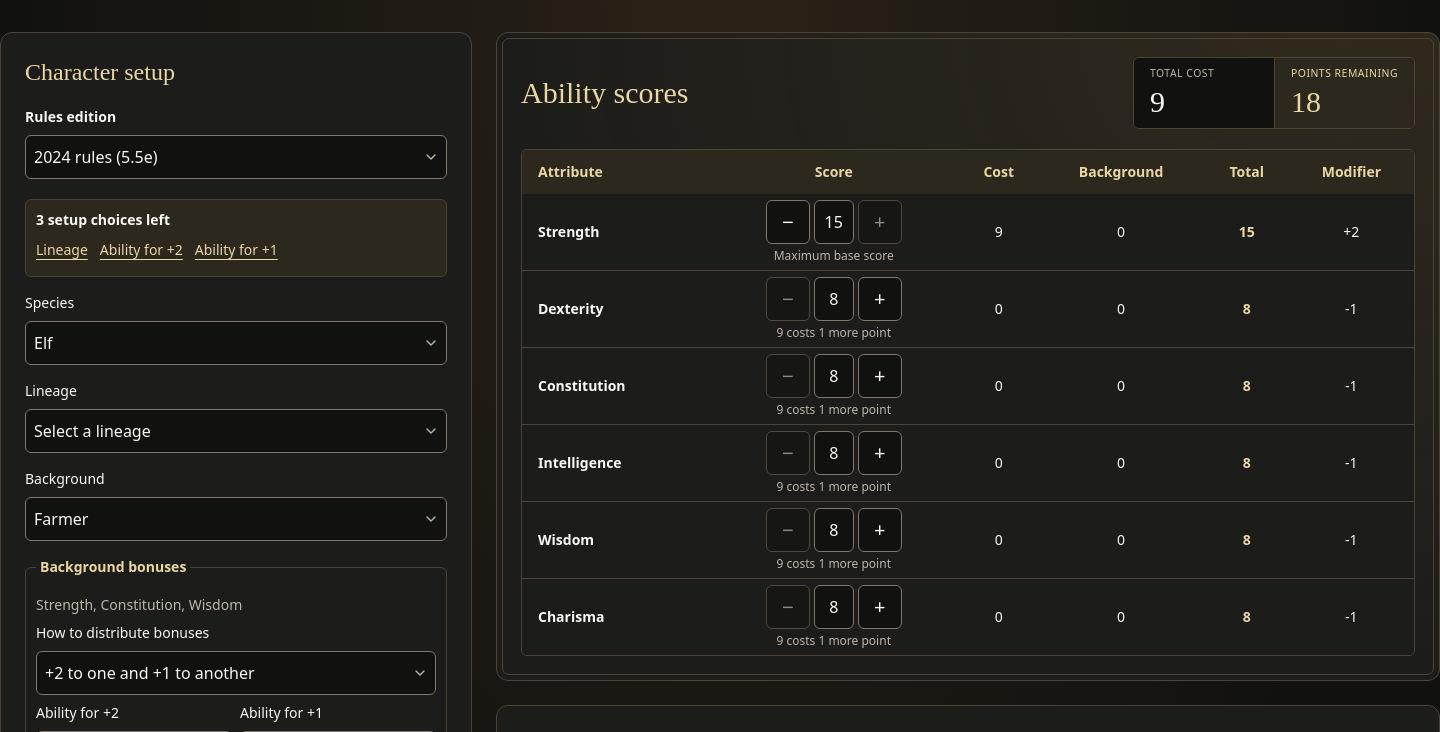
it: CharacterForm and BuildSync › syncs only the active edition's choices and retains shared scores on a round trip
Select "2014 rules (5e)" in the dropdown labelled "Rules edition". click: (236, 157)
box: [25, 135, 447, 179]
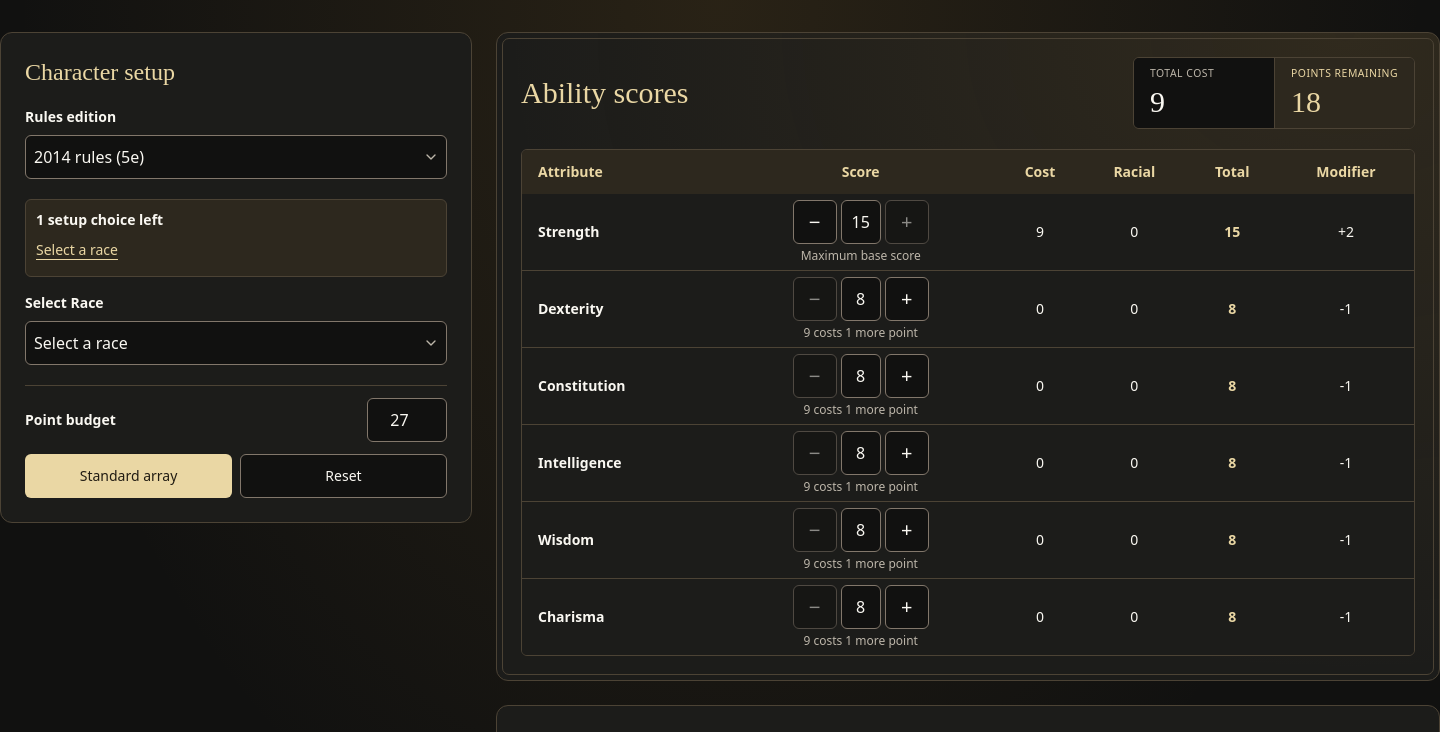
Select "Dwarf" in the dropdown labelled "Select Race". click: (236, 343)
box: [25, 321, 447, 365]
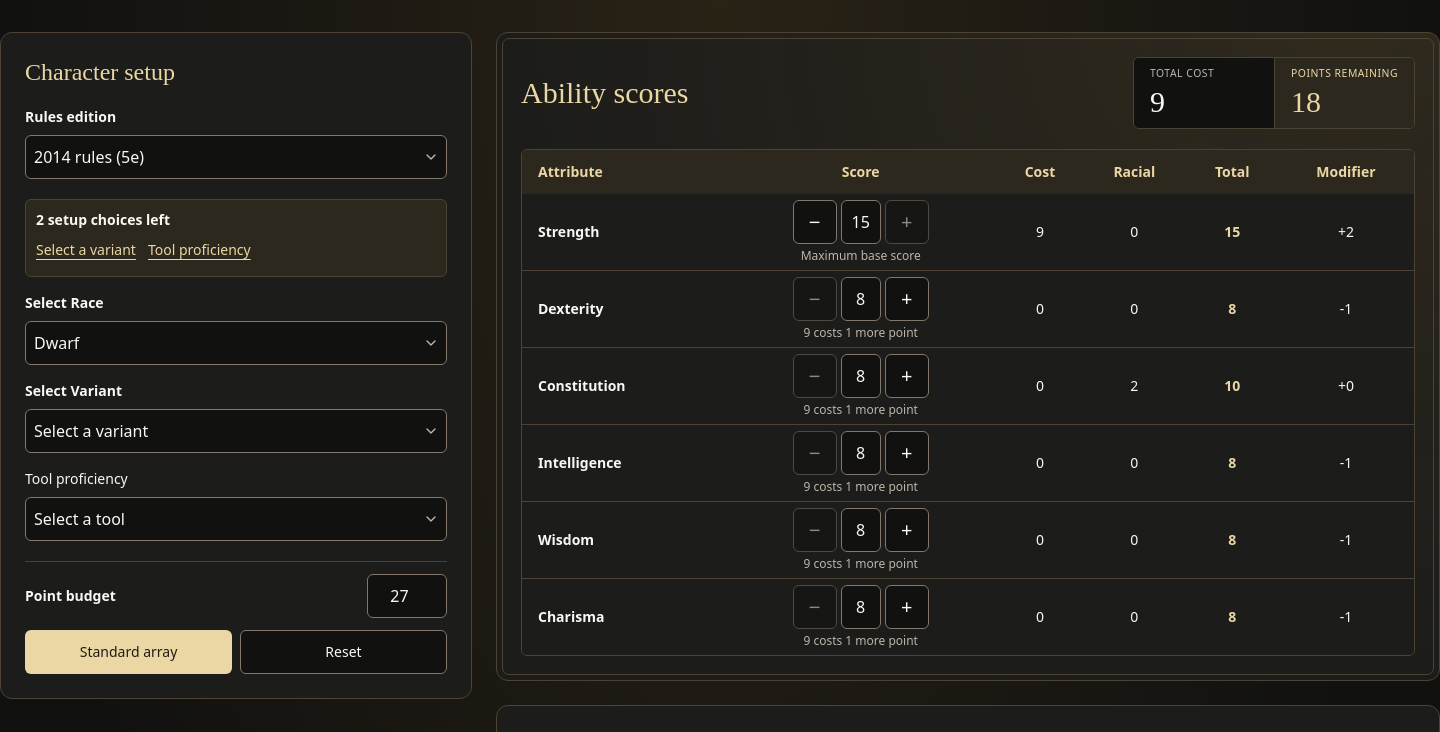
Select "2024 rules (5.5e)" in the dropdown labelled "Rules edition". click: (236, 157)
box: [25, 135, 447, 179]
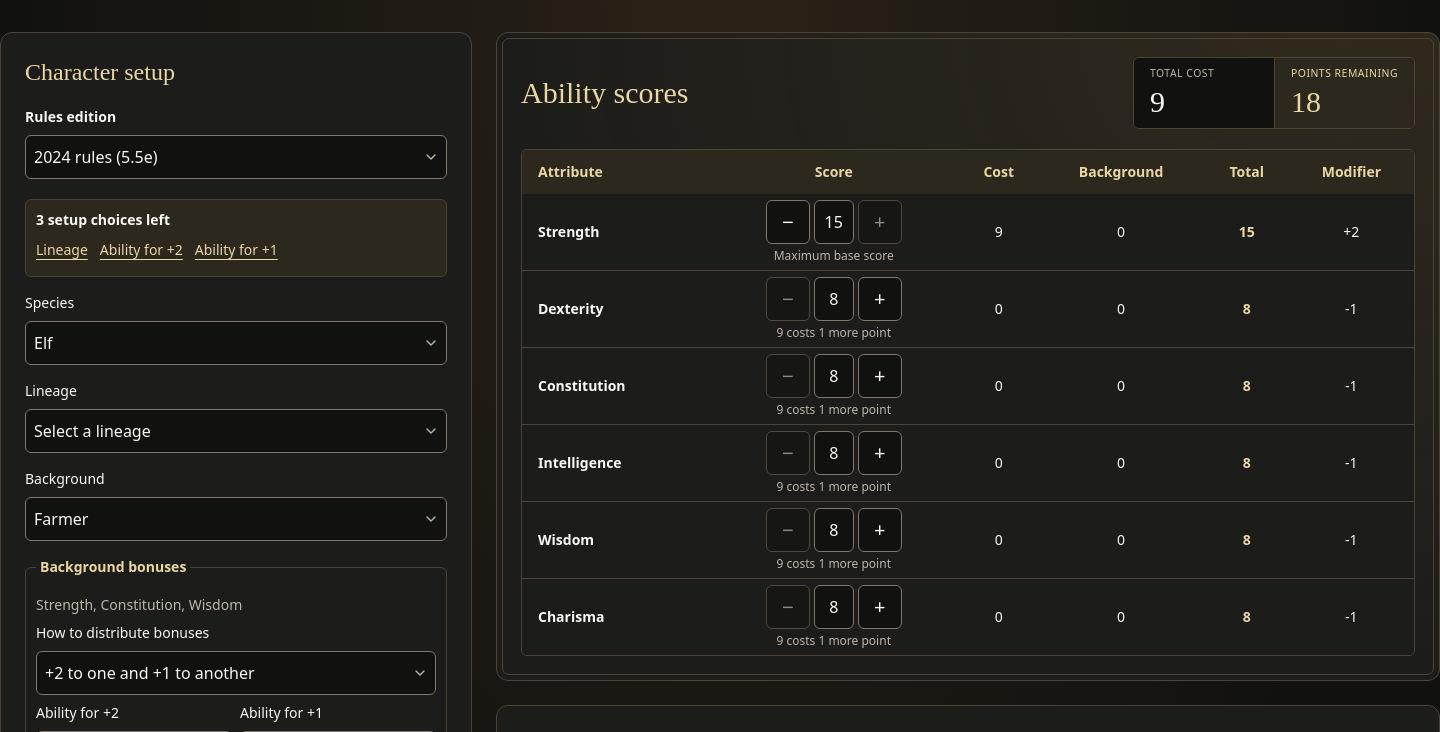
Expected: the dropdown labelled "Background" shows "Farmer", [25, 497, 447, 541]
Select "2014 rules (5e)" in the dropdown labelled "Rules edition". click: (236, 157)
box: [25, 135, 447, 179]
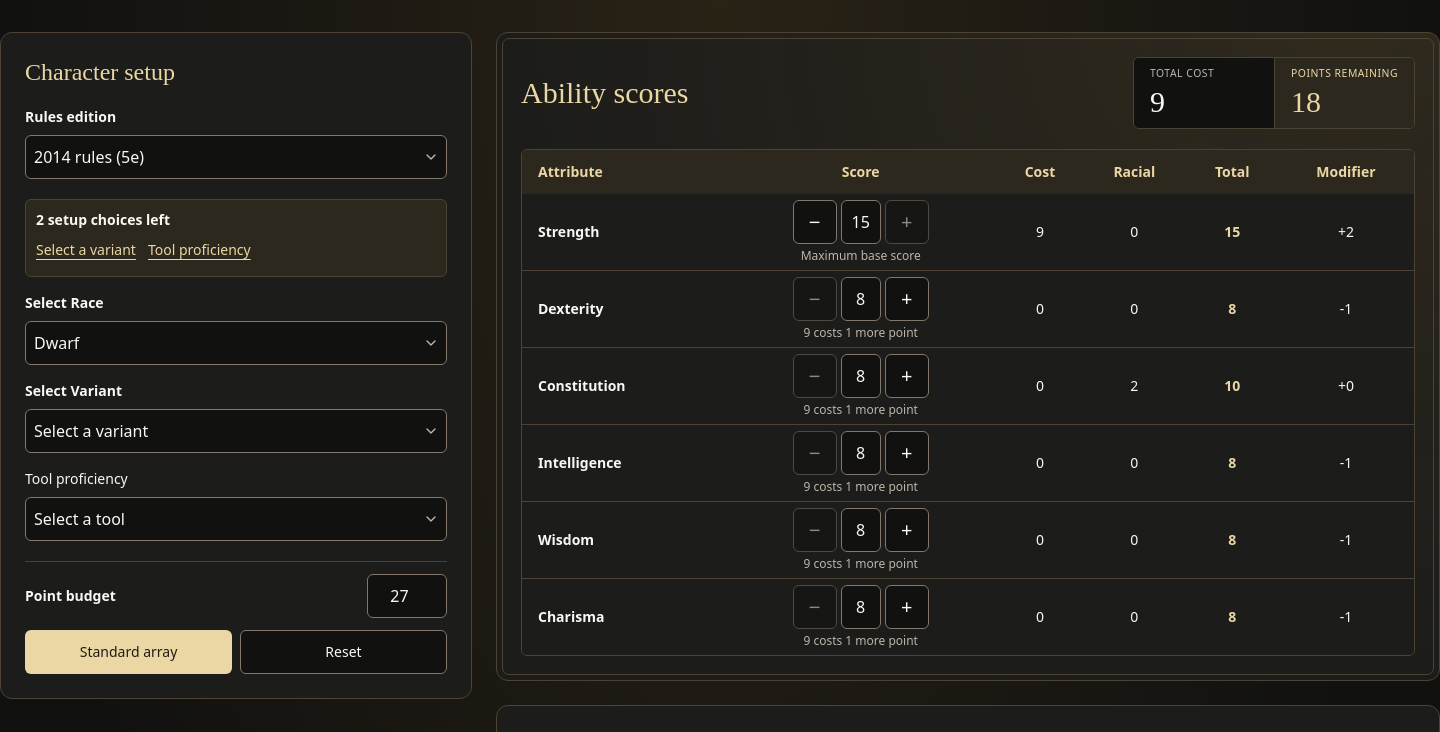
Expected: the number field named "Strength score" holds "15", [841, 200, 881, 244]
Expected: the dropdown labelled "Select Race" shows "Dwarf", [25, 321, 447, 365]
